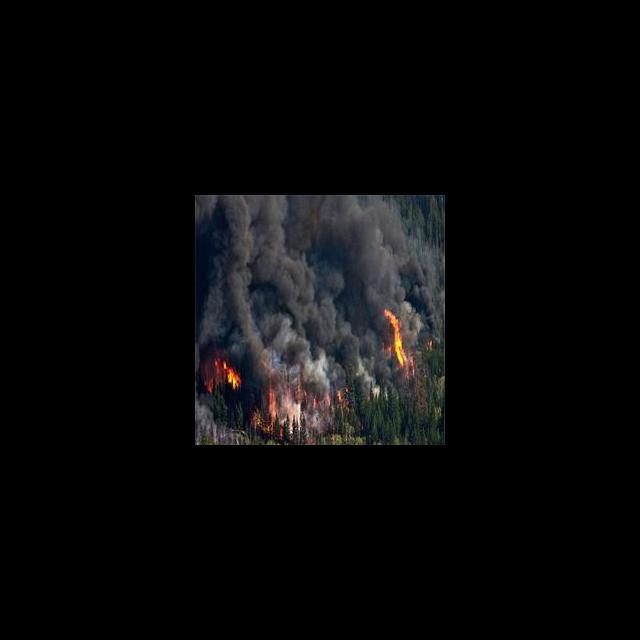Fire: (254, 386, 354, 444), (382, 311, 416, 374), (202, 356, 240, 395)
Smoke: (198, 198, 380, 348)
